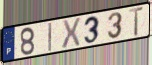3: (83, 14, 103, 45), (106, 11, 123, 40)
8: (20, 26, 36, 56)
I: (48, 22, 53, 53)
T: (128, 6, 145, 38)
X: (61, 17, 81, 51)
